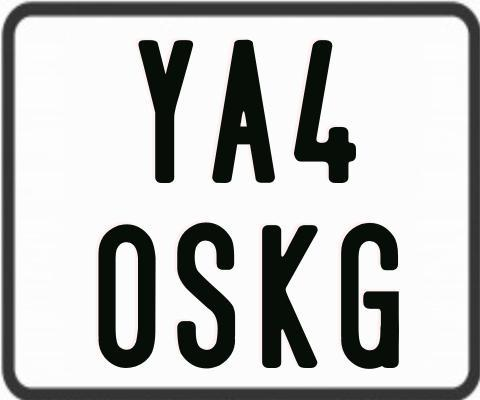0: (95, 224, 153, 374)
4: (294, 37, 360, 185)
A: (210, 39, 279, 187)
G: (338, 223, 398, 372)
K: (261, 222, 320, 367)
S: (174, 220, 234, 369)
Y: (138, 40, 199, 186)
